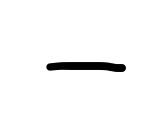minus: (43, 59, 125, 75)
